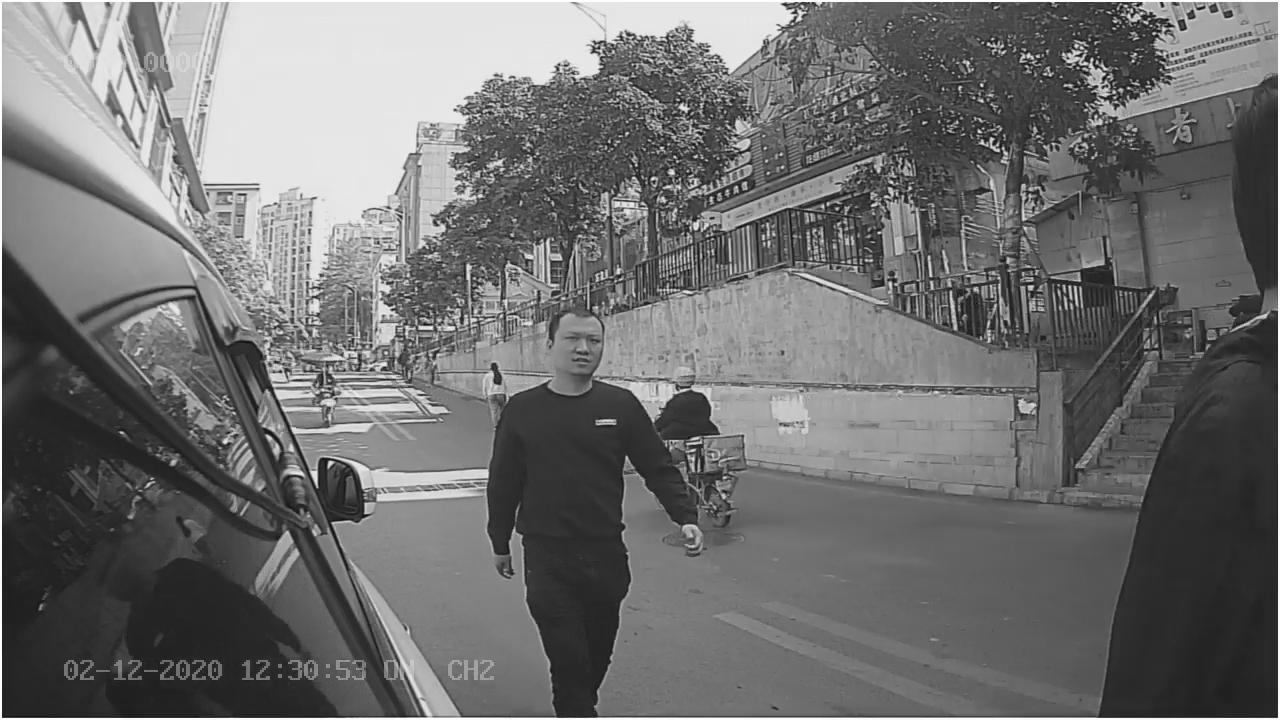person: (482, 299, 711, 582)
